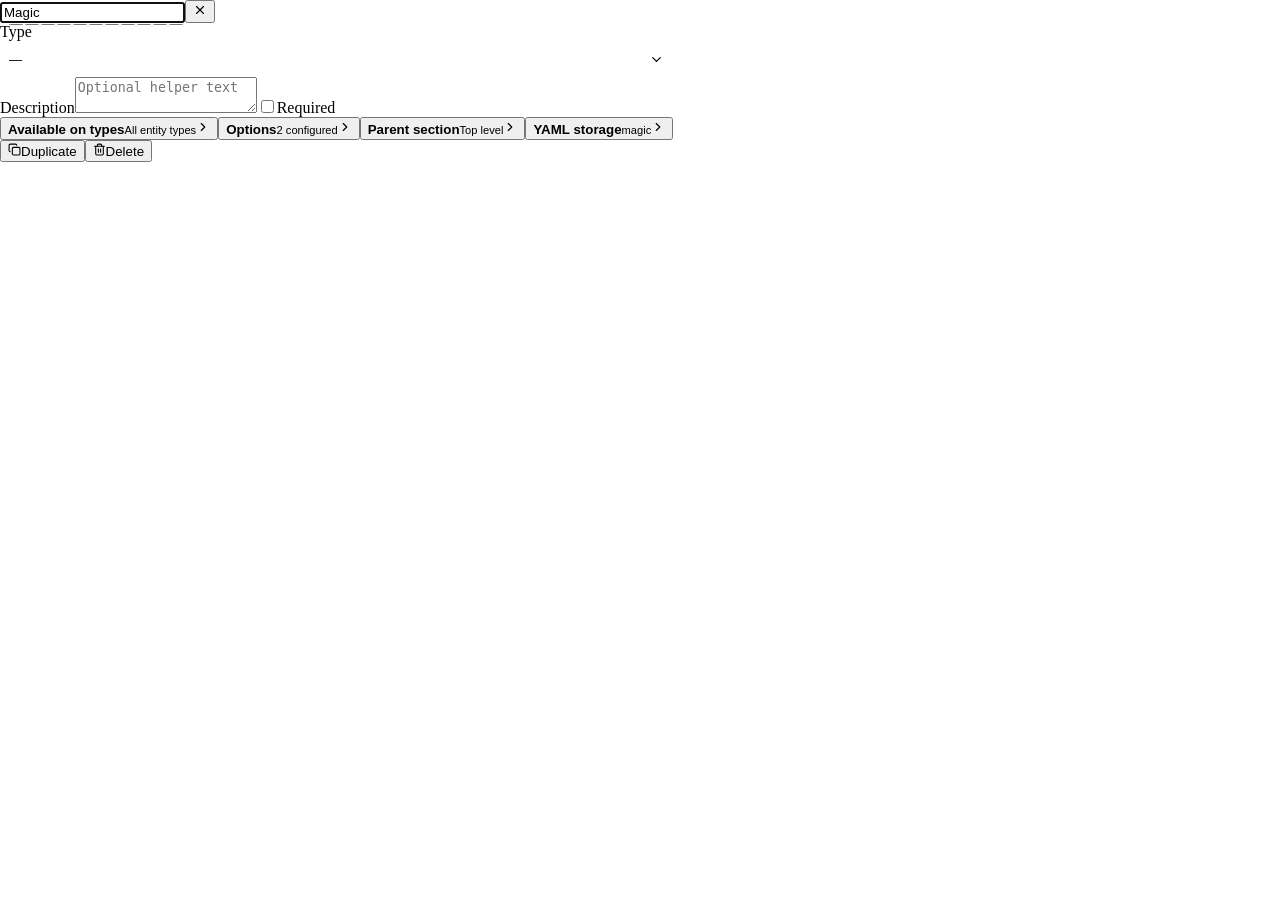
PropertyEditorPopover › opens dense settings in a secondary panel and Escape returns to the compact menu
The image size is (1280, 900).
Later steps or results of the test are not shown.
Click the button "Available on types": click(109, 128) [0,117,218,140]
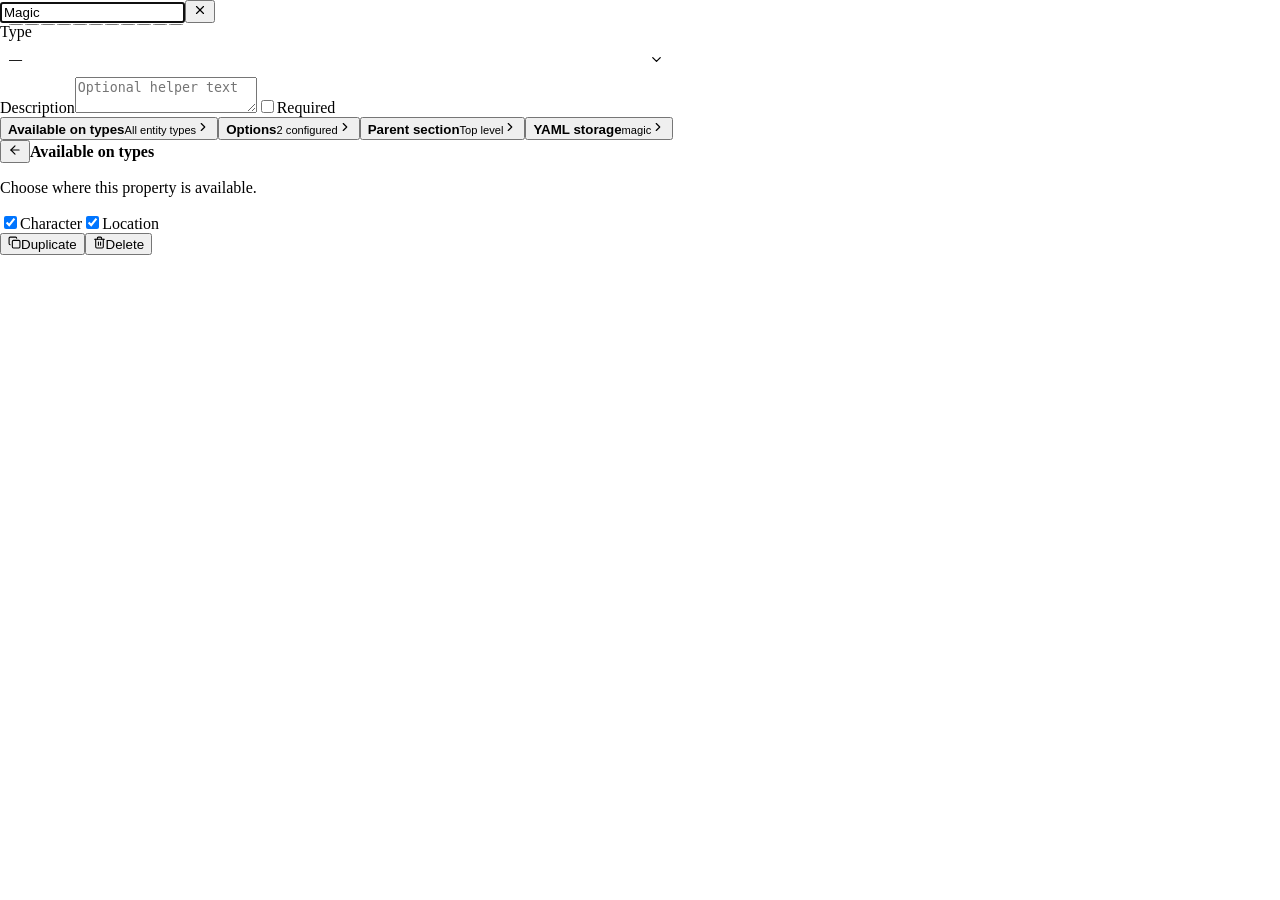
Check: the element "Available on types" is shown, box [0,140,257,232]
Check: the text "Character" is shown, box [20,215,82,232]
